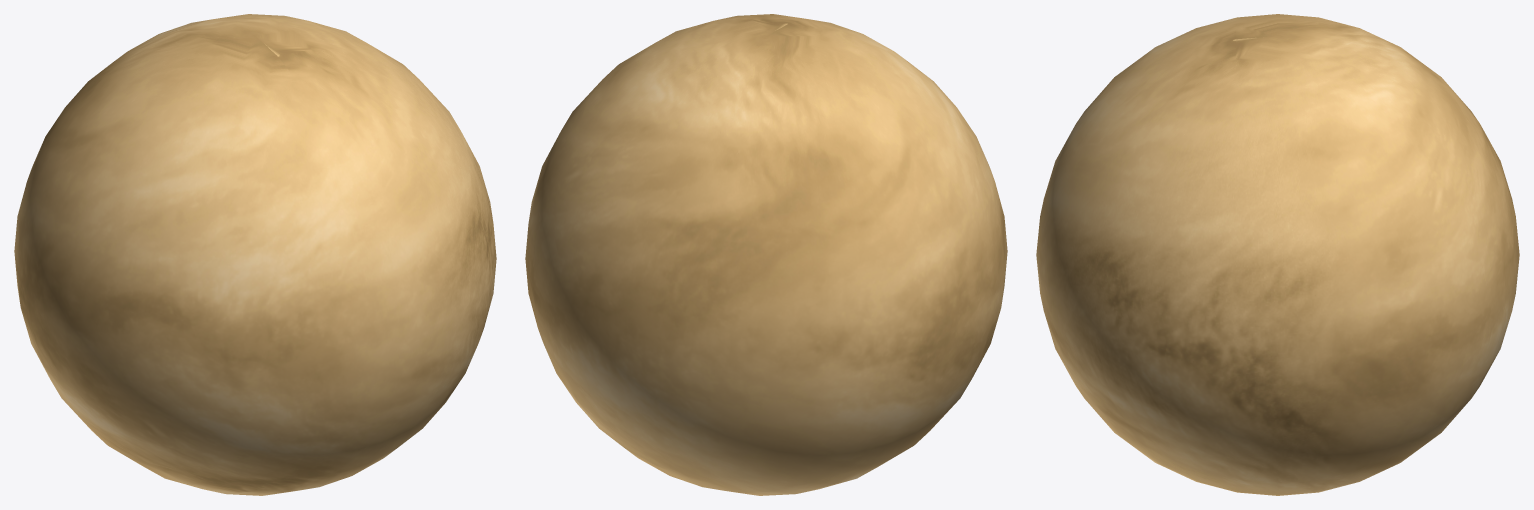
Rendered from venus.fbx.
3 renders of one model, left to right at view 1: azimuth 30°, elevation 25°; view 2: azimuth 150°, elevation 25°; view 3: azimuth 270°, elevation 25°, orthographic.
Visible parts, largest first — view 1: venus (clouds); view 2: venus (clouds); view 3: venus (clouds).
Part boxes in pixels (x1,y1,x2,y2): venus (clouds): (14,14,496,495); venus (clouds): (525,14,1007,495); venus (clouds): (1036,14,1519,495).
Size of the model in its own units: 2.09 by 2.09 by 2.09.
2 materials, 2 textured.
